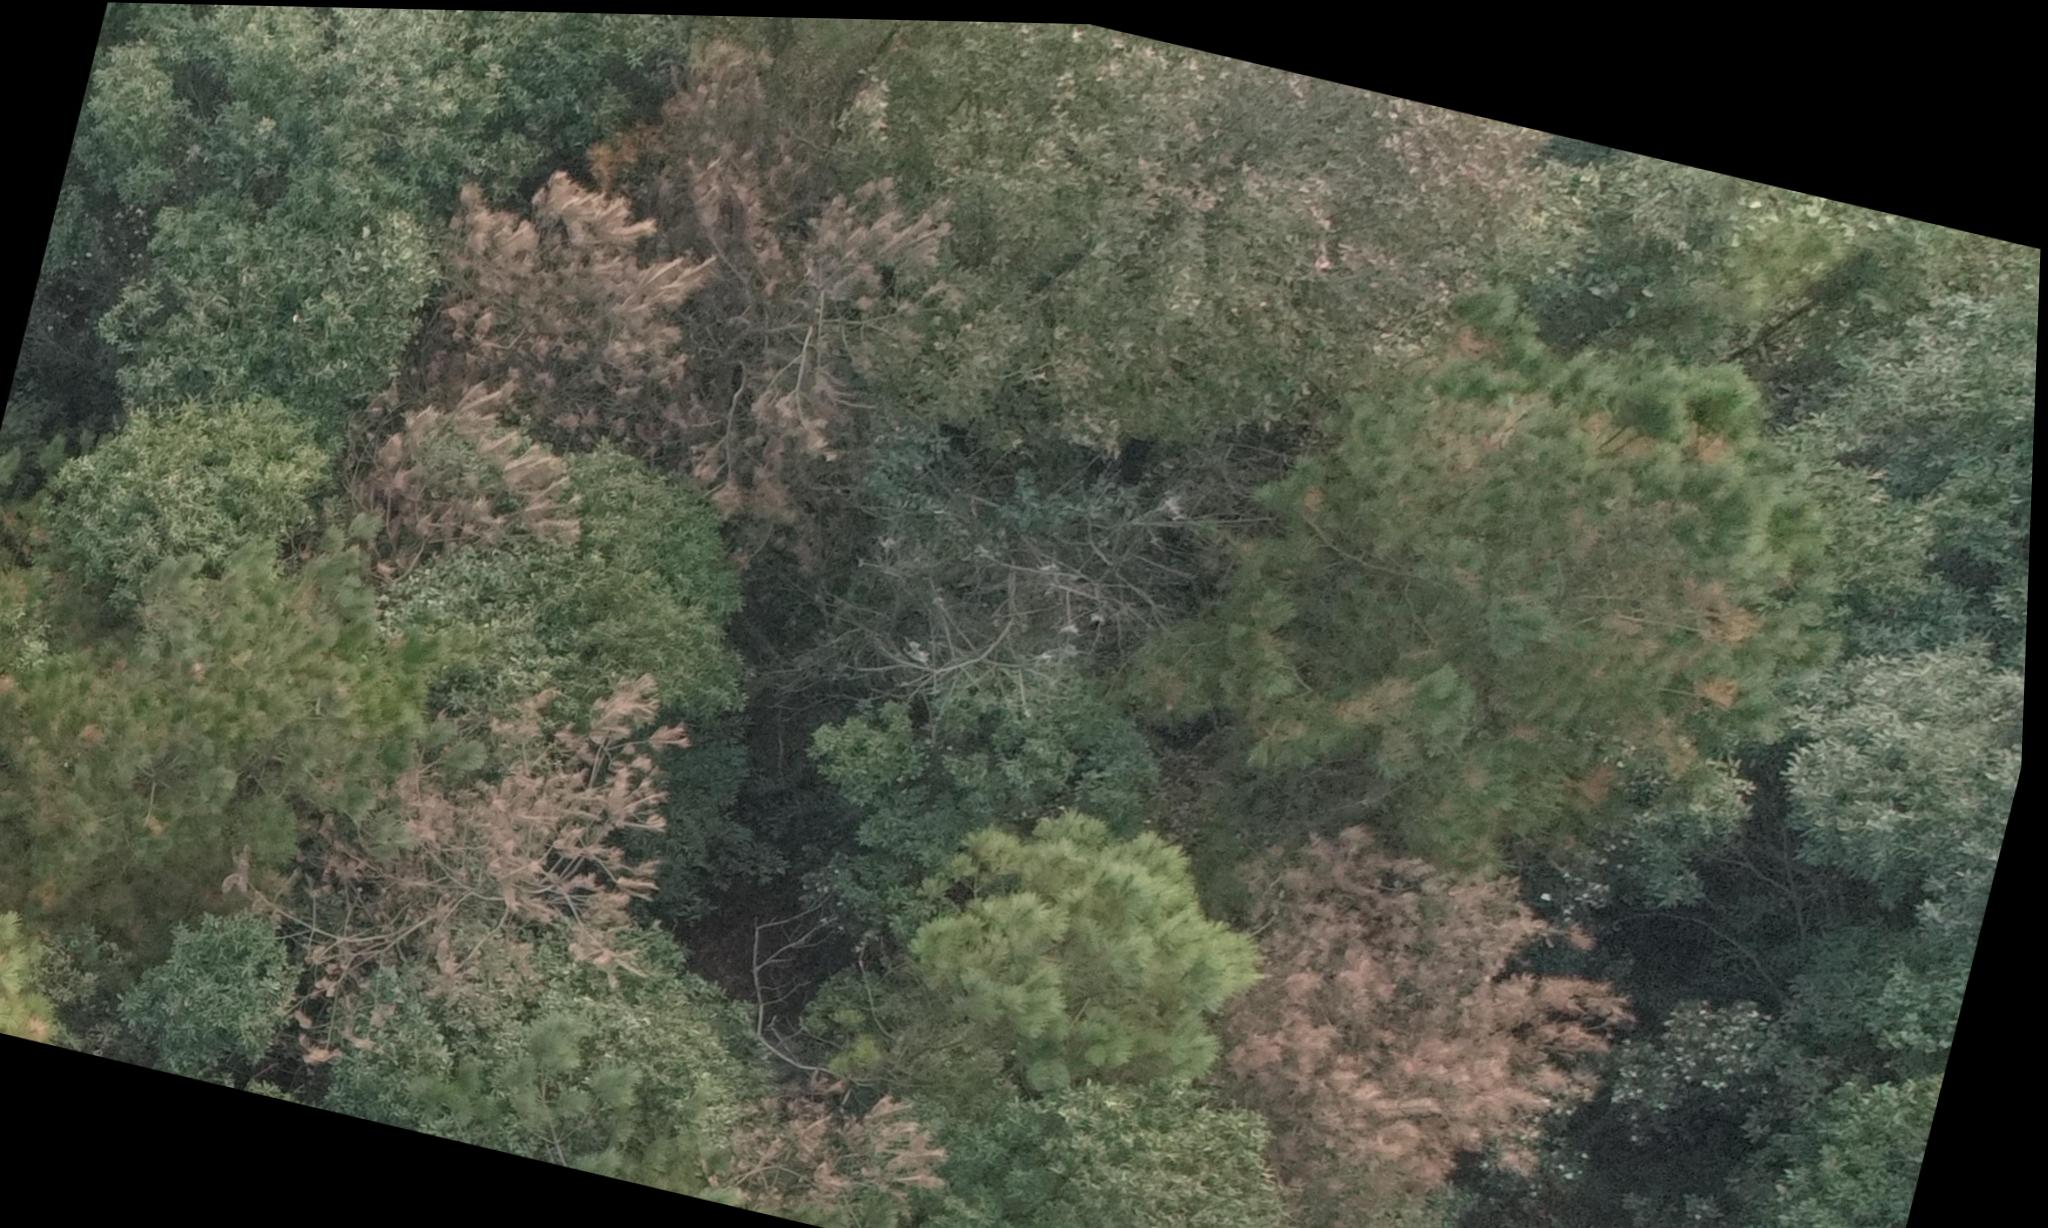heavy: (390, 39, 1032, 551), (1177, 813, 1693, 1227), (308, 624, 693, 1038)
light: (1174, 260, 1861, 852), (0, 478, 341, 1082)
